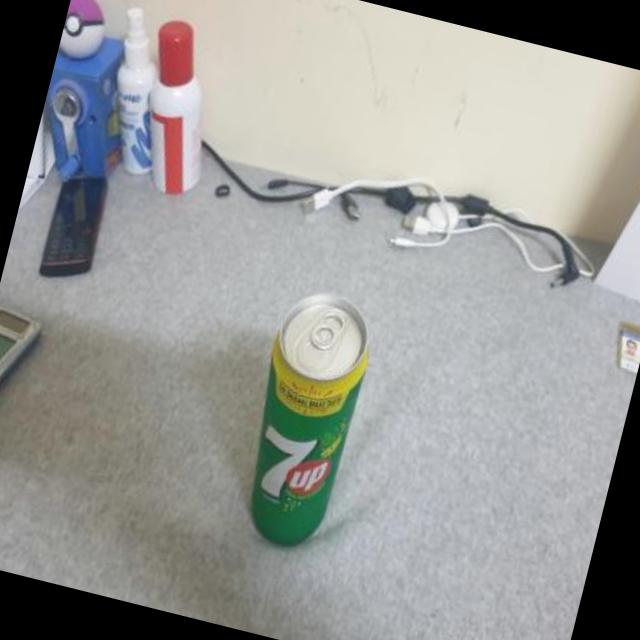metal: (249, 297, 368, 544)
